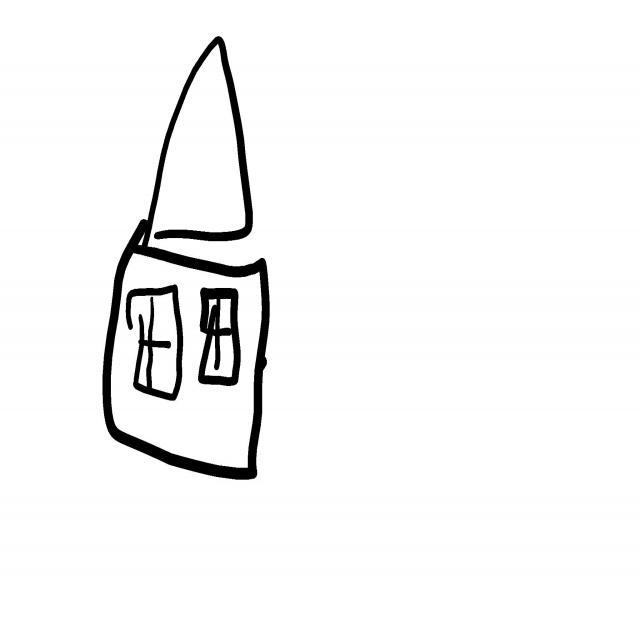house: (103, 36, 270, 480)
roof: (144, 36, 253, 245)
wall: (104, 226, 269, 480)
window: (126, 286, 183, 401), (198, 288, 241, 386)
